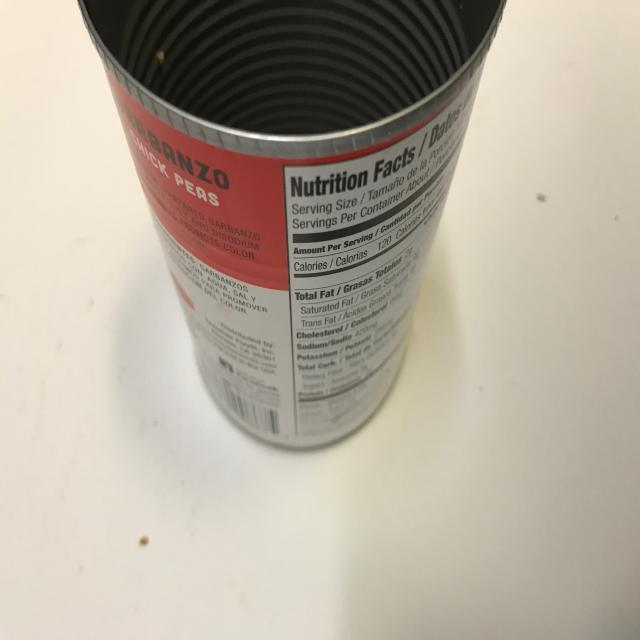metal: (76, 0, 507, 447)
